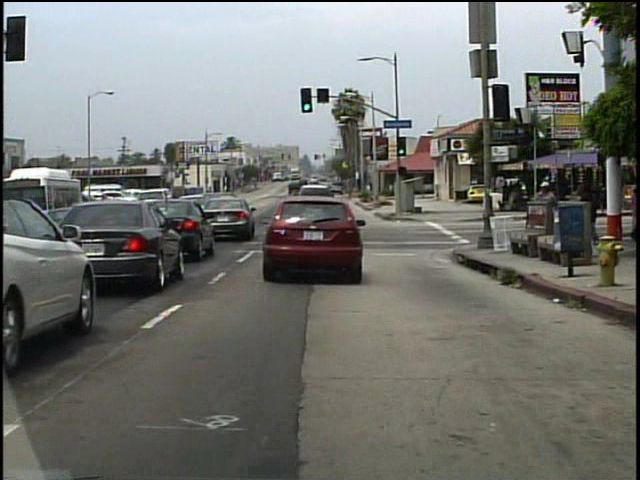person: (531, 176, 559, 249), (579, 178, 597, 246)
